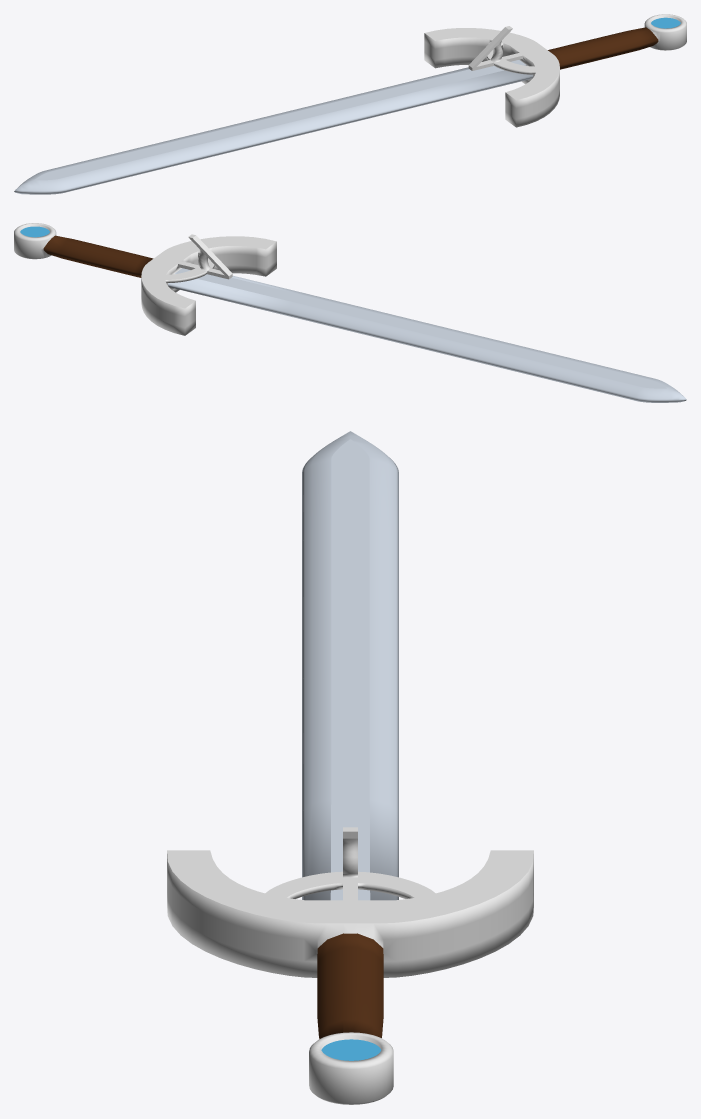
Rendered from TimeSword.fbx.
3 renders of one model, top to bottom at view 1: azimuth 30°, elevation 25°; view 2: azimuth 150°, elevation 25°; view 3: azimuth 270°, elevation 25°, orthographic. The views are drawn at different scales.
Visible parts, largest first — view 1: Sword Combined; view 2: Sword Combined; view 3: Sword Combined.
Boxes of the visible parts, <box> form: Sword Combined: <box>14,14,686,194</box>; Sword Combined: <box>14,223,686,402</box>; Sword Combined: <box>167,431,533,1104</box>.
Bounding box in the file's own units: 251 × 20.29 × 59.51.
